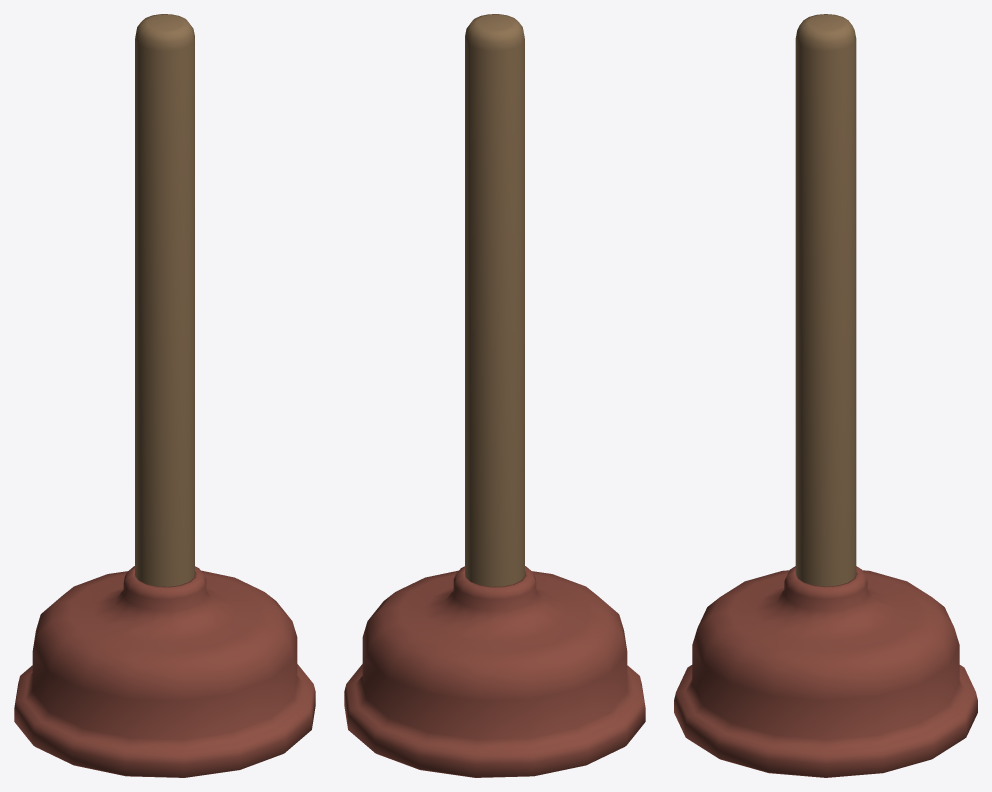
File: plunger.fbx
3 renders of one model, left to right at view 1: azimuth 30°, elevation 25°; view 2: azimuth 150°, elevation 25°; view 3: azimuth 270°, elevation 25°, orthographic.
Visible parts, largest first — view 1: Cylinder; view 2: Cylinder; view 3: Cylinder.
Boxes of the visible parts, <box> form: Cylinder: <box>14,14,315,777</box>; Cylinder: <box>344,14,645,777</box>; Cylinder: <box>674,14,977,777</box>.
Size of the model in its own units: 228 by 572 by 228.
